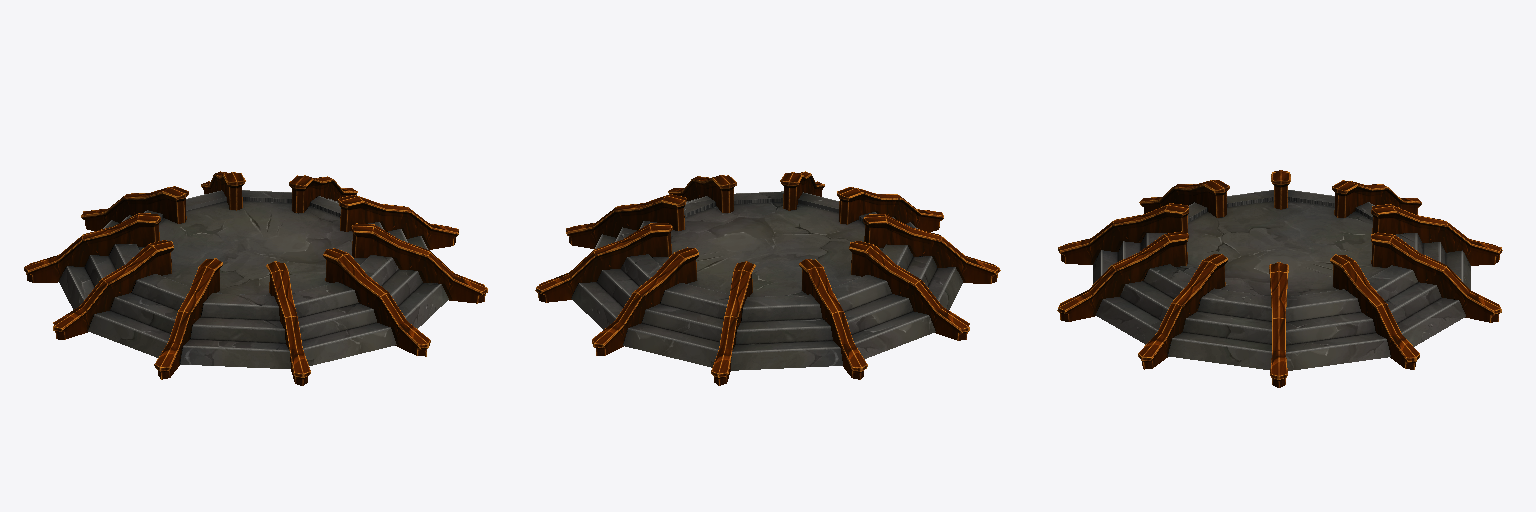
3 views of the same model, side by side, from view 1: azimuth 30°, elevation 25°; view 2: azimuth 150°, elevation 25°; view 3: azimuth 270°, elevation 25° (orthographic).
Visible parts, largest first — view 1: Stairs_Low, polySurface10; view 2: Stairs_Low, polySurface10; view 3: Stairs_Low, polySurface10.
Boxes of the visible parts, <box> form: Stairs_Low: <box>59,190,448,368</box>; polySurface10: <box>24,171,487,385</box>; Stairs_Low: <box>571,191,962,370</box>; polySurface10: <box>535,171,1000,385</box>; Stairs_Low: <box>1093,190,1470,370</box>; polySurface10: <box>1057,170,1502,387</box>.
Bounding box in the file's own units: 17.95 × 2.97 × 17.09.
2 materials, 2 textured.